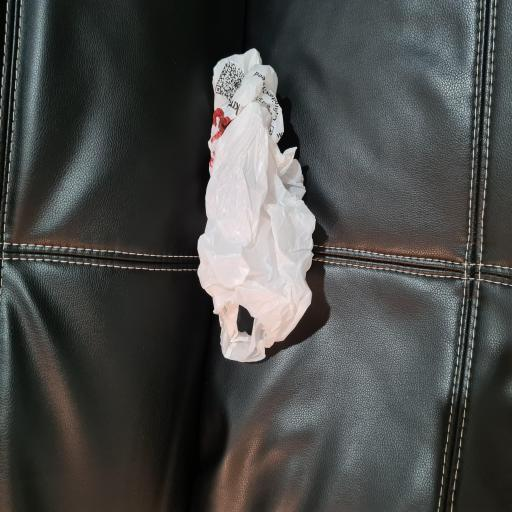plastic bag: (110, 260, 348, 420)
